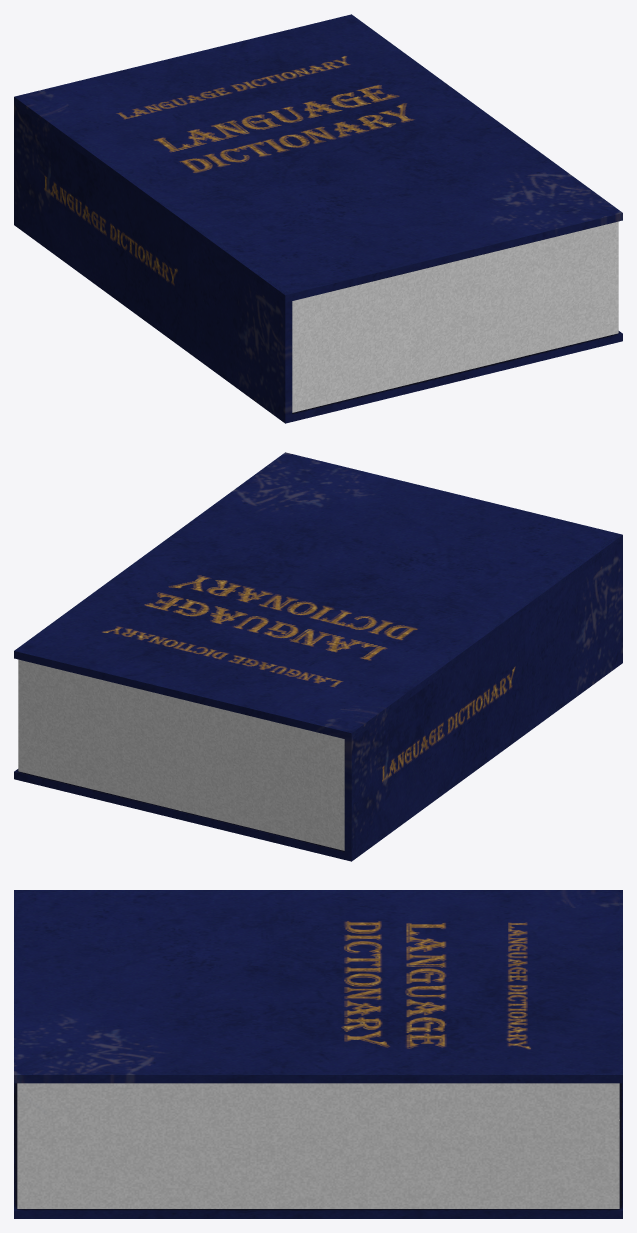
The model's file is Dictionary_Book.fbx.
3 renders of one model, top to bottom at view 1: azimuth 30°, elevation 25°; view 2: azimuth 150°, elevation 25°; view 3: azimuth 270°, elevation 25°, orthographic. The views are drawn at different scales.
Visible parts, largest first — view 1: book; view 2: book; view 3: book.
Part boxes in pixels (x1,y1,x2,y2): book: [14, 14, 622, 423]; book: [14, 452, 622, 861]; book: [14, 890, 622, 1218].
Size of the model in its own units: 178 by 64.73 by 248.
Materials: 1 (1 with a texture image).
